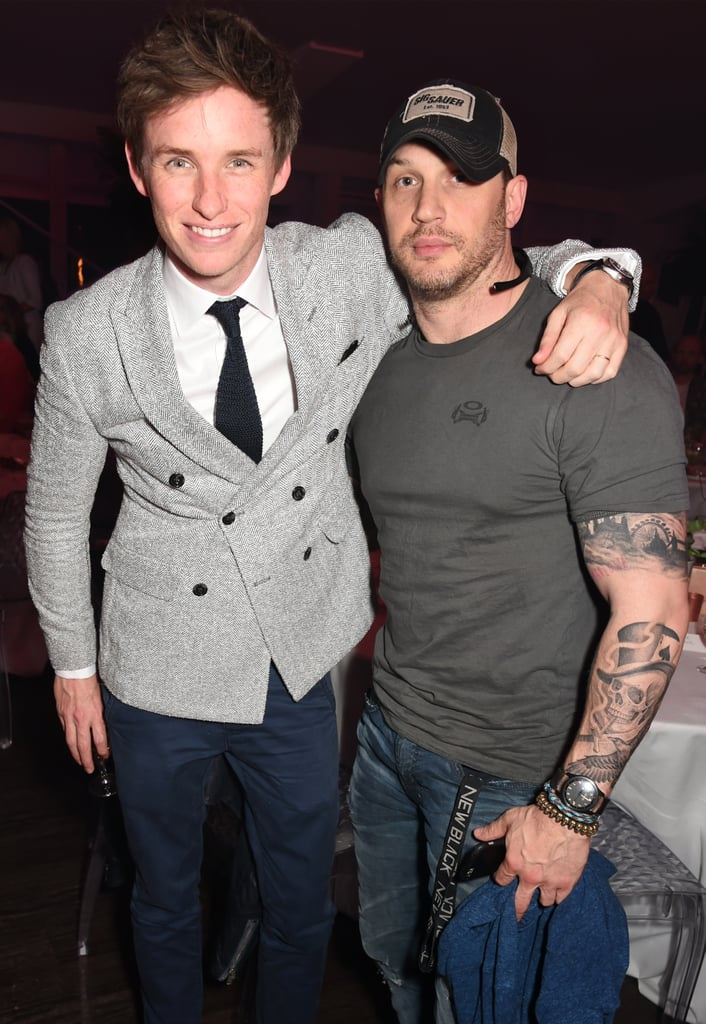bad: (132, 116, 287, 270), (368, 153, 497, 282)
